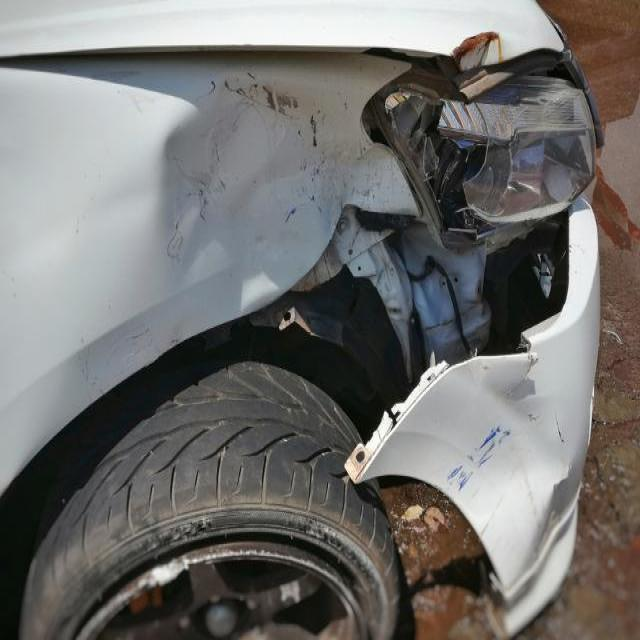Dent: (8, 67, 360, 388), (486, 495, 578, 637), (482, 380, 574, 500), (85, 305, 180, 388), (223, 74, 298, 118), (475, 347, 538, 396), (113, 436, 165, 492), (161, 422, 222, 466), (168, 190, 205, 258), (526, 92, 586, 132), (547, 460, 580, 524), (244, 430, 296, 458), (146, 556, 183, 588), (599, 350, 627, 378), (478, 424, 505, 448), (423, 316, 456, 332), (592, 416, 631, 429), (553, 412, 565, 444), (602, 327, 622, 344), (308, 112, 316, 144), (283, 205, 294, 220), (527, 352, 536, 367), (207, 80, 215, 93), (527, 412, 536, 420), (357, 266, 361, 270)
